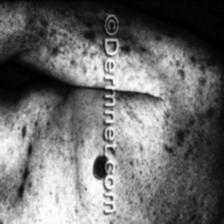Non-Cancerous Skin Condition: (140, 66, 224, 182), (0, 111, 54, 224), (25, 8, 95, 58)
